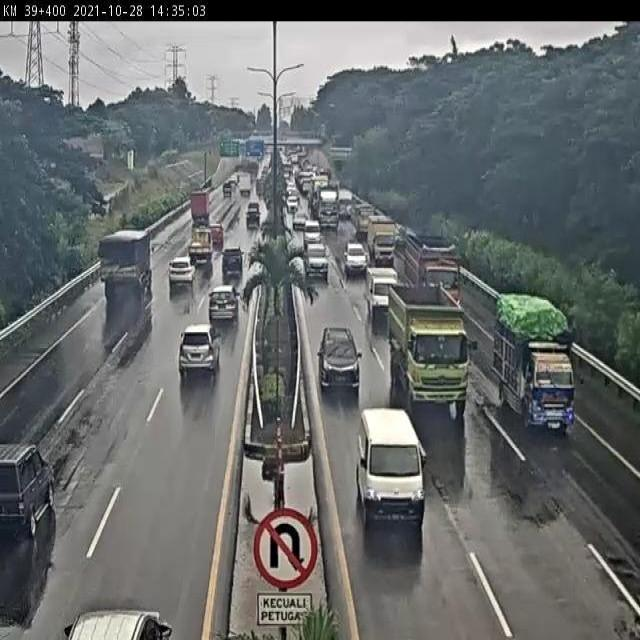big truck: (395, 307, 479, 424), (94, 228, 156, 309), (402, 236, 458, 301)
car: (348, 382, 420, 507), (0, 434, 46, 554), (311, 311, 368, 389), (168, 325, 220, 400), (361, 263, 403, 316), (203, 289, 237, 336), (156, 259, 197, 297), (219, 253, 256, 287), (306, 242, 330, 282), (345, 236, 366, 273), (209, 226, 228, 246)
small truck: (494, 290, 578, 434), (363, 214, 393, 262), (188, 190, 215, 233), (189, 233, 214, 267)
